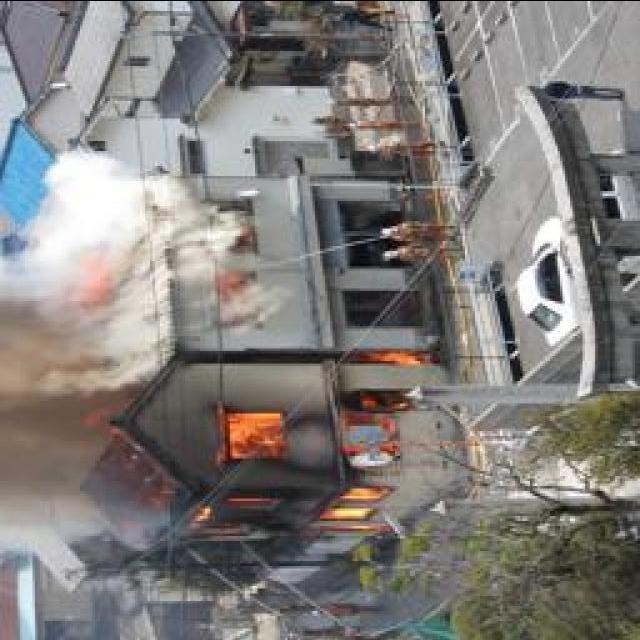Fire: (197, 332, 441, 540)
